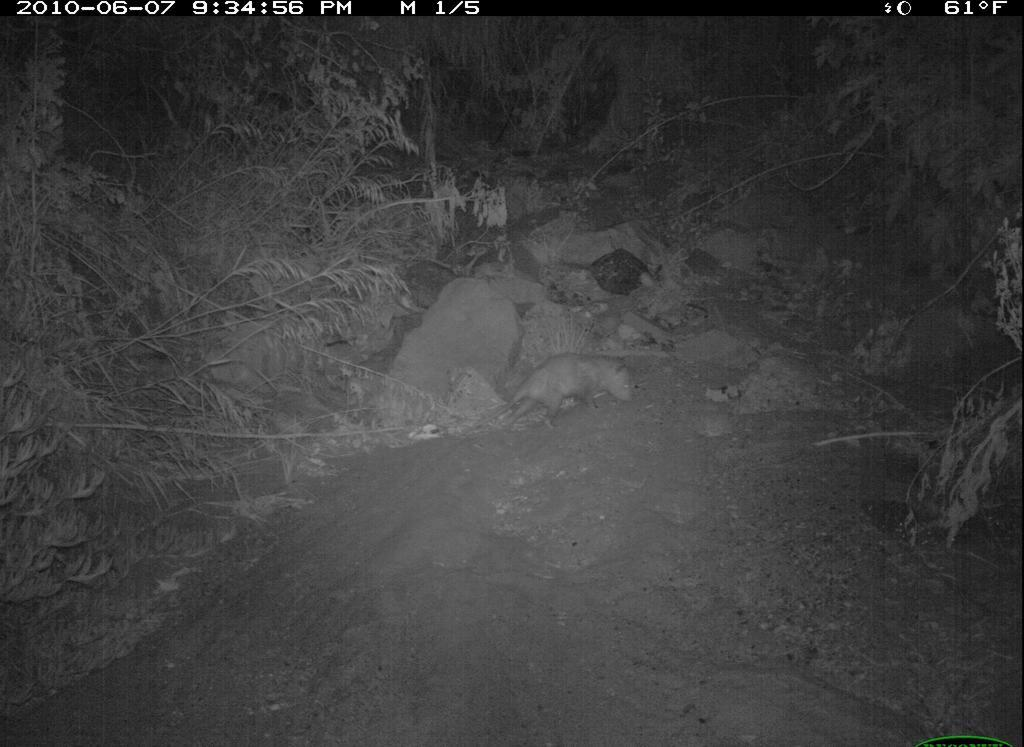opossum: (489, 351, 643, 428)
